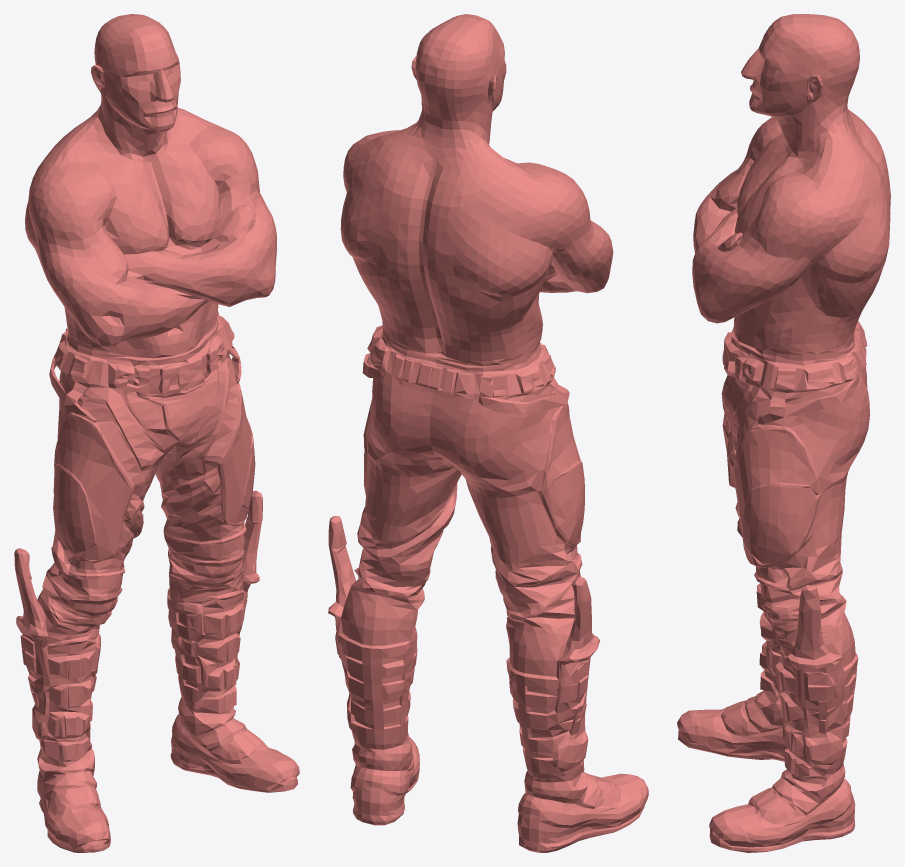
File: Drax.dae
3 views of the same model, side by side, from view 1: azimuth 30°, elevation 25°; view 2: azimuth 150°, elevation 25°; view 3: azimuth 270°, elevation 25° (orthographic). The views are drawn at different scales.
Parts seen in each view (by area): view 1: drex; view 2: drex; view 3: drex.
Boxes of the visible parts, <box> form: drex: <box>14,14,299,852</box>; drex: <box>328,14,648,852</box>; drex: <box>677,14,890,852</box>.
Size of the model in its own units: 0.6181 by 0.4485 by 1.8.
